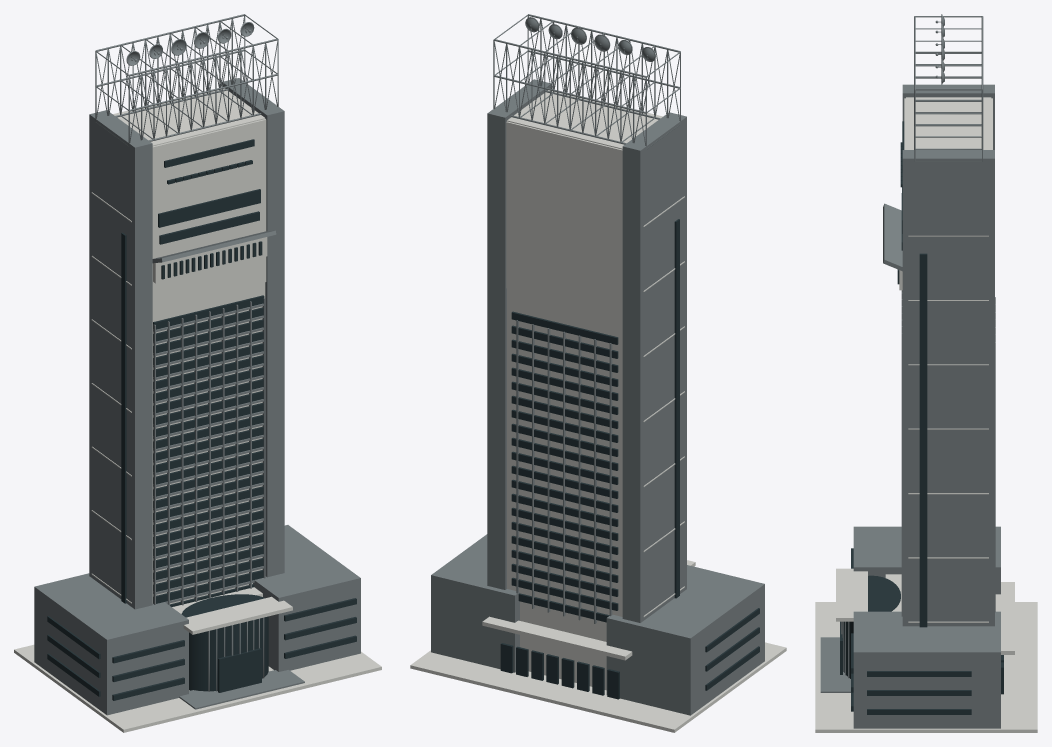
Rendered from comcentre.glb.
The picture shows the model from 3 angles, left to right: view 1: azimuth 30°, elevation 25°; view 2: azimuth 150°, elevation 25°; view 3: azimuth 270°, elevation 25°; orthographic projection. The views are drawn at different scales.
Visible parts, largest first — view 1: service-cores/east-core, five-storey-equipment-podium/west-podium-wing, stepped-telecom-crown/solid-crown, service-cores/west-core, tower-frame/tower-slab, five-storey-equipment-podium/east-podium-wing, entrance-plaza/plaza, glazed-entrance-rotunda/curved-glass-lobby, service-cores/core-service-reveal--1, glazed-entrance-rotunda/entry-canopy, entrance-plaza/arrival-terrace, stepped-telecom-crown/terrace-parapet (+38 smaller); view 2: service-cores/east-core, tower-frame/tower-slab, stepped-telecom-crown/solid-crown, five-storey-equipment-podium/west-podium-wing, service-cores/west-core, five-storey-equipment-podium/east-podium-wing, entrance-plaza/plaza, service-cores/core-service-reveal--1, five-storey-equipment-podium/rear-service-canopy, rear-window-ribbons/rear-mullion-3, rear-window-ribbons/rear-mullion-5, rear-window-ribbons/rear-mullion-1 (+25 smaller); view 3: service-cores/west-core, five-storey-equipment-podium/east-podium-wing, entrance-plaza/plaza, tower-frame/tower-slab, service-cores/core-service-reveal-1, five-storey-equipment-podium/west-podium-wing, glazed-entrance-rotunda/entry-canopy, glazed-entrance-rotunda/curved-glass-lobby, service-cores/east-core, entrance-plaza/arrival-terrace, stepped-telecom-crown/sloped-terrace-canopy, five-storey-equipment-podium/rear-service-canopy (+4 smaller).
Boxes of the visible parts, x1,y1,x2,y2 form: service-cores/east-core: (89,110,152,609); five-storey-equipment-podium/west-podium-wing: (34,573,188,715); stepped-telecom-crown/solid-crown: (152,119,266,309); service-cores/west-core: (222,78,284,577); tower-frame/tower-slab: (113,88,265,604); five-storey-equipment-podium/east-podium-wing: (253,525,360,671); entrance-plaza/plaza: (14,644,381,732); glazed-entrance-rotunda/curved-glass-lobby: (181,594,268,691); service-cores/core-service-reveal--1: (121,232,126,603); glazed-entrance-rotunda/entry-canopy: (183,596,292,634); entrance-plaza/arrival-terrace: (179,670,304,709); stepped-telecom-crown/terrace-parapet: (153,237,267,283); service-cores/east-core: (622,112,686,622); tower-frame/tower-slab: (507,90,662,690); stepped-telecom-crown/solid-crown: (506,121,622,316); five-storey-equipment-podium/west-podium-wing: (606,565,764,715); service-cores/west-core: (487,79,551,589); five-storey-equipment-podium/east-podium-wing: (431,534,519,672); entrance-plaza/plaza: (410,642,786,732); service-cores/core-service-reveal--1: (674,219,679,598); five-storey-equipment-podium/rear-service-canopy: (482,616,632,660); rear-window-ribbons/rear-mullion-3: (578,335,581,620); rear-window-ribbons/rear-mullion-5: (547,328,550,612); rear-window-ribbons/rear-mullion-1: (609,343,612,616); service-cores/west-core: (902,150,994,626); five-storey-equipment-podium/east-podium-wing: (853,611,1000,728); entrance-plaza/plaza: (815,602,1037,732); tower-frame/tower-slab: (906,97,991,149); service-cores/core-service-reveal-1: (919,253,927,627); five-storey-equipment-podium/west-podium-wing: (853,526,1000,594); glazed-entrance-rotunda/entry-canopy: (836,568,867,621); glazed-entrance-rotunda/curved-glass-lobby: (843,575,900,678); service-cores/east-core: (902,84,994,149); entrance-plaza/arrival-terrace: (820,637,850,692); stepped-telecom-crown/sloped-terrace-canopy: (883,203,902,271); five-storey-equipment-podium/rear-service-canopy: (995,582,1014,654).
Size of the model in its own units: 17 by 39.04 by 12.5.
